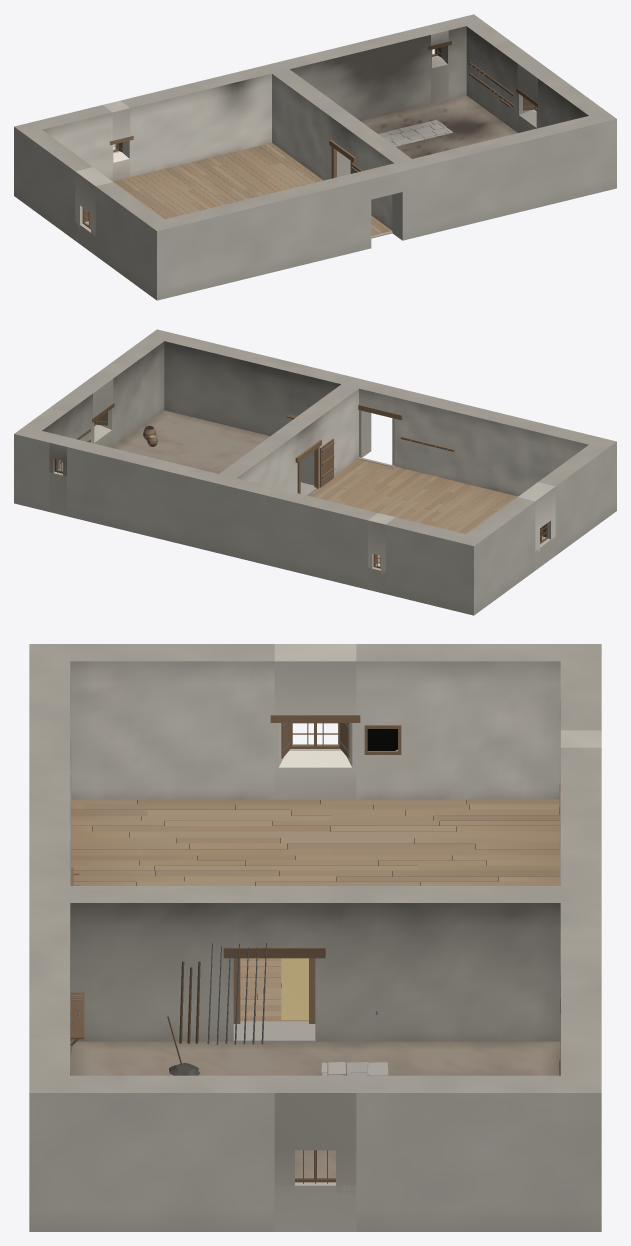
The model's file is kalev_smithy_shell.glb.
3 views of the same model, one above another, from view 1: azimuth 30°, elevation 25°; view 2: azimuth 150°, elevation 25°; view 3: azimuth 270°, elevation 25° (orthographic). The views are drawn at different scales.
Parts seen in each view (by area): view 1: kalev_smithy_shell_limestone, kalev_smithy_shell_limewash, kalev_smithy_shell_boards, kalev_smithy_shell_earth, kalev_smithy_shell_oak, kalev_smithy_shell_slab; view 2: kalev_smithy_shell_limestone, kalev_smithy_shell_limewash, kalev_smithy_shell_boards, kalev_smithy_shell_earth, kalev_smithy_shell_oak; view 3: kalev_smithy_shell_limestone, kalev_smithy_shell_limewash, kalev_smithy_shell_boards, kalev_smithy_shell_earth, kalev_smithy_shell_oak, kalev_smithy_shell_slab, kalev_smithy_shell_straw, kalev_smithy_shell_iron, kalev_smithy_shell_loft_shadow.
Part boxes in pixels (<box>): kalev_smithy_shell_limestone: <box>14,14,616,300</box>; kalev_smithy_shell_limewash: <box>42,73,393,235</box>; kalev_smithy_shell_boards: <box>113,142,391,235</box>; kalev_smithy_shell_earth: <box>361,95,517,158</box>; kalev_smithy_shell_oak: <box>82,41,538,229</box>; kalev_smithy_shell_slab: <box>371,119,453,238</box>; kalev_smithy_shell_limestone: <box>14,329,616,615</box>; kalev_smithy_shell_limewash: <box>237,388,588,574</box>; kalev_smithy_shell_boards: <box>308,459,517,563</box>; kalev_smithy_shell_earth: <box>113,410,269,473</box>; kalev_smithy_shell_oak: <box>54,403,548,568</box>; kalev_smithy_shell_limestone: <box>29,644,601,1231</box>; kalev_smithy_shell_limewash: <box>70,644,601,885</box>; kalev_smithy_shell_boards: <box>71,799,559,1021</box>; kalev_smithy_shell_earth: <box>70,1041,560,1176</box>; kalev_smithy_shell_oak: <box>70,715,560,1182</box>; kalev_smithy_shell_slab: <box>233,1021,388,1075</box>; kalev_smithy_shell_straw: <box>281,958,308,1020</box>; kalev_smithy_shell_iron: <box>70,723,377,1183</box>; kalev_smithy_shell_loft_shadow: <box>92,729,498,1015</box>.
Size of the model in its own units: 26 by 3.76 by 14.
